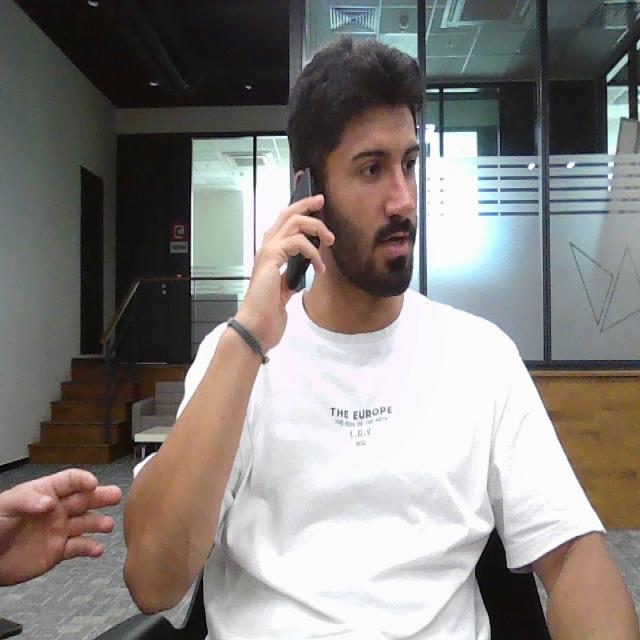phone: (283, 159, 322, 294)
